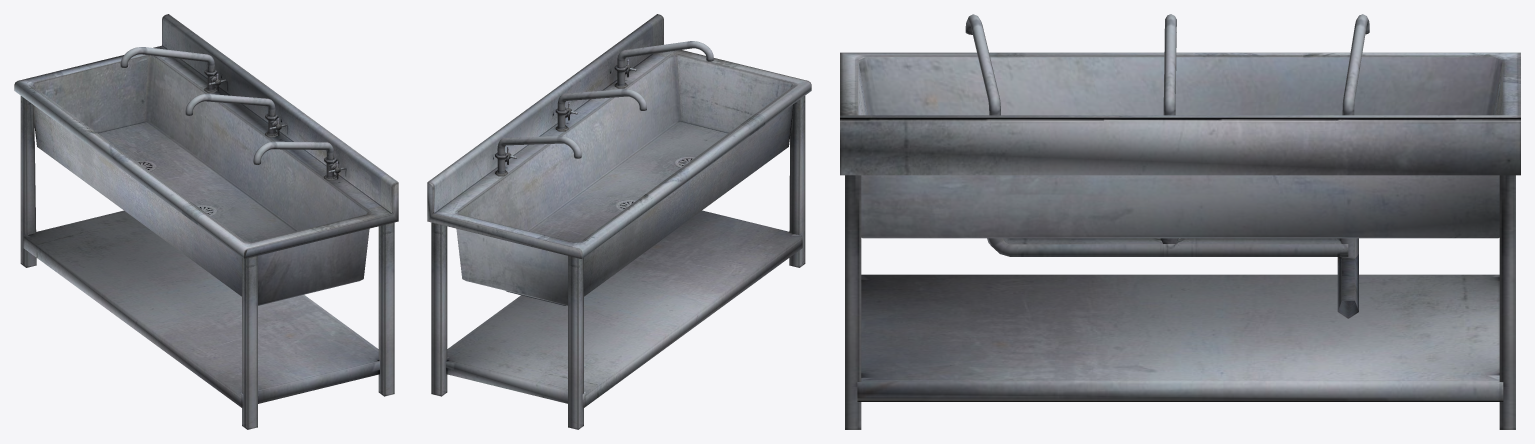
File: scrub_sink.glb
3 renders of one model, left to right at view 1: azimuth 30°, elevation 25°; view 2: azimuth 150°, elevation 25°; view 3: azimuth 270°, elevation 25°, orthographic. The views are drawn at different scales.
Parts seen in each view (by area): view 1: Hospital_02_97m_0; view 2: Hospital_02_97m_0; view 3: Hospital_02_97m_0.
Part boxes in pixels (<box>): Hospital_02_97m_0: <box>14,14,398,429</box>; Hospital_02_97m_0: <box>427,14,811,429</box>; Hospital_02_97m_0: <box>840,14,1520,429</box>.
Size of the model in its own units: 0.8587 by 1.27 by 2.22.
Materials: 1 (1 with a texture image).
